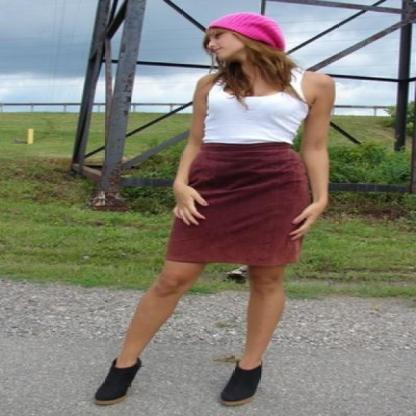hat: (206, 14, 283, 41)
shirt: (203, 70, 311, 144)
shoe: (95, 357, 261, 401)
skirt: (166, 142, 313, 268)
